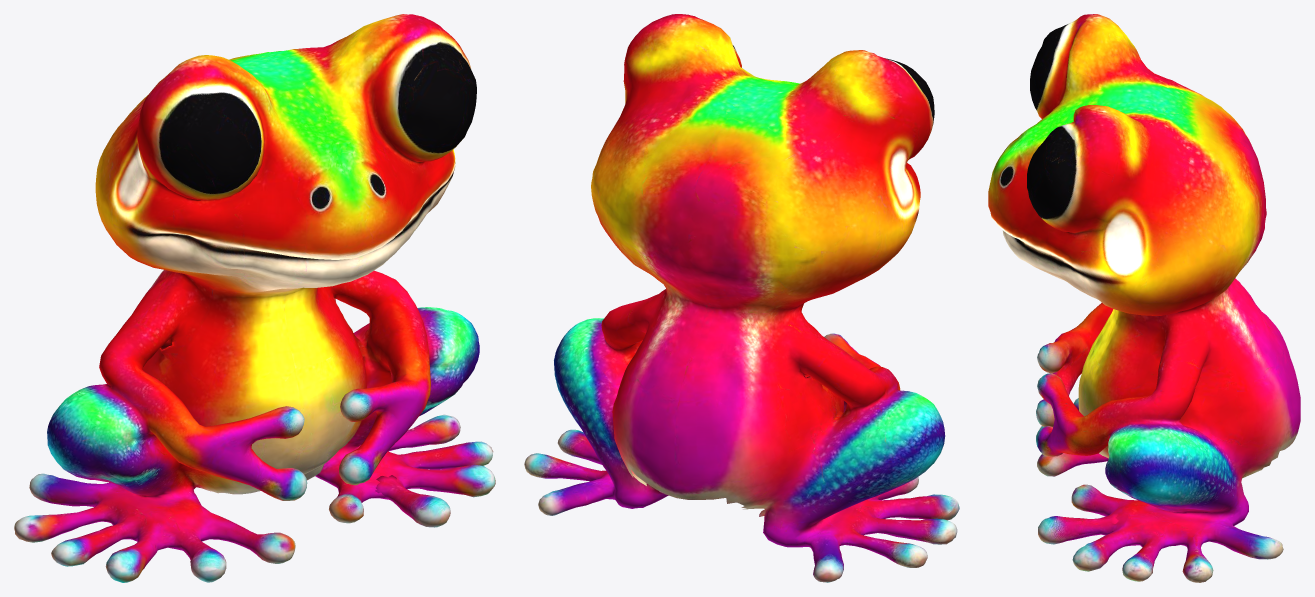
The model's file is frog_rainbow_v2.glb.
3 renders of one model, left to right at view 1: azimuth 30°, elevation 25°; view 2: azimuth 150°, elevation 25°; view 3: azimuth 270°, elevation 25°, orthographic. The views are drawn at different scales.
Bounding box in the file's own units: 1.77 × 1.9 × 1.23.
1 material, 1 textured.
